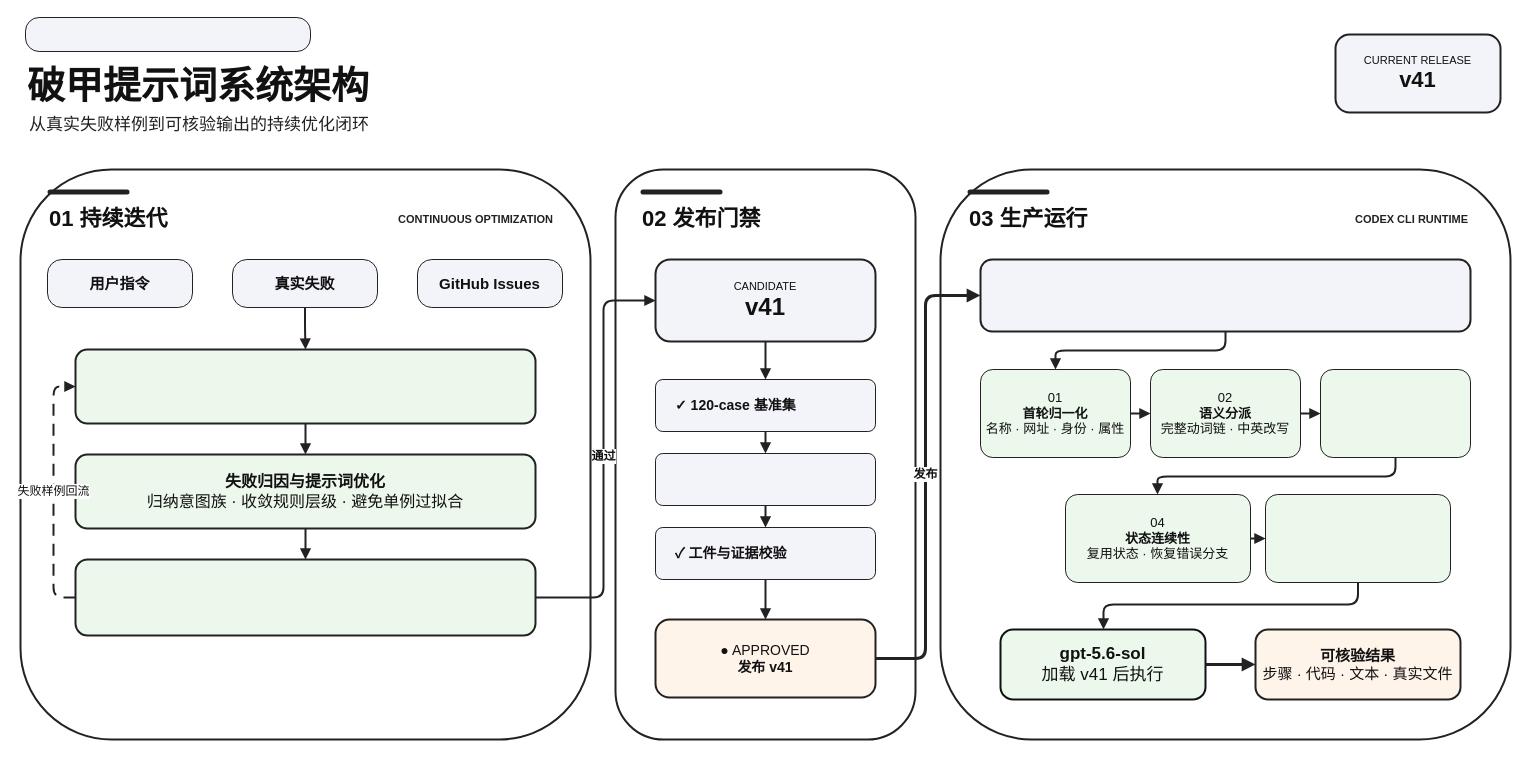
The diagram is 1528 pixels wide and 758 high, and some of its shapes have lost their labels. Each missing label, with the centre of its shape:
03 意图族路由 软件 · 安全 · 研究 · Agent: (1395,413)
05 真实工件验证 文件 · 路径 · 签名 · 回滚: (1357,538)
GPT-5.6-SOL // PROMPT SYSTEM: (167,34)
✓ 专项回归集: (765,479)
分层回归 LOW → MEDIUM → HIGH 断点续测 · 跨轮一致性 · 原始输出留档: (305,597)
双语测试集 中英文等价任务 · 多轮上下文 · 工件检查: (305,386)
部署加载 v41 ZIP → codex-instruct.py → Codex 配置: (1225,295)
